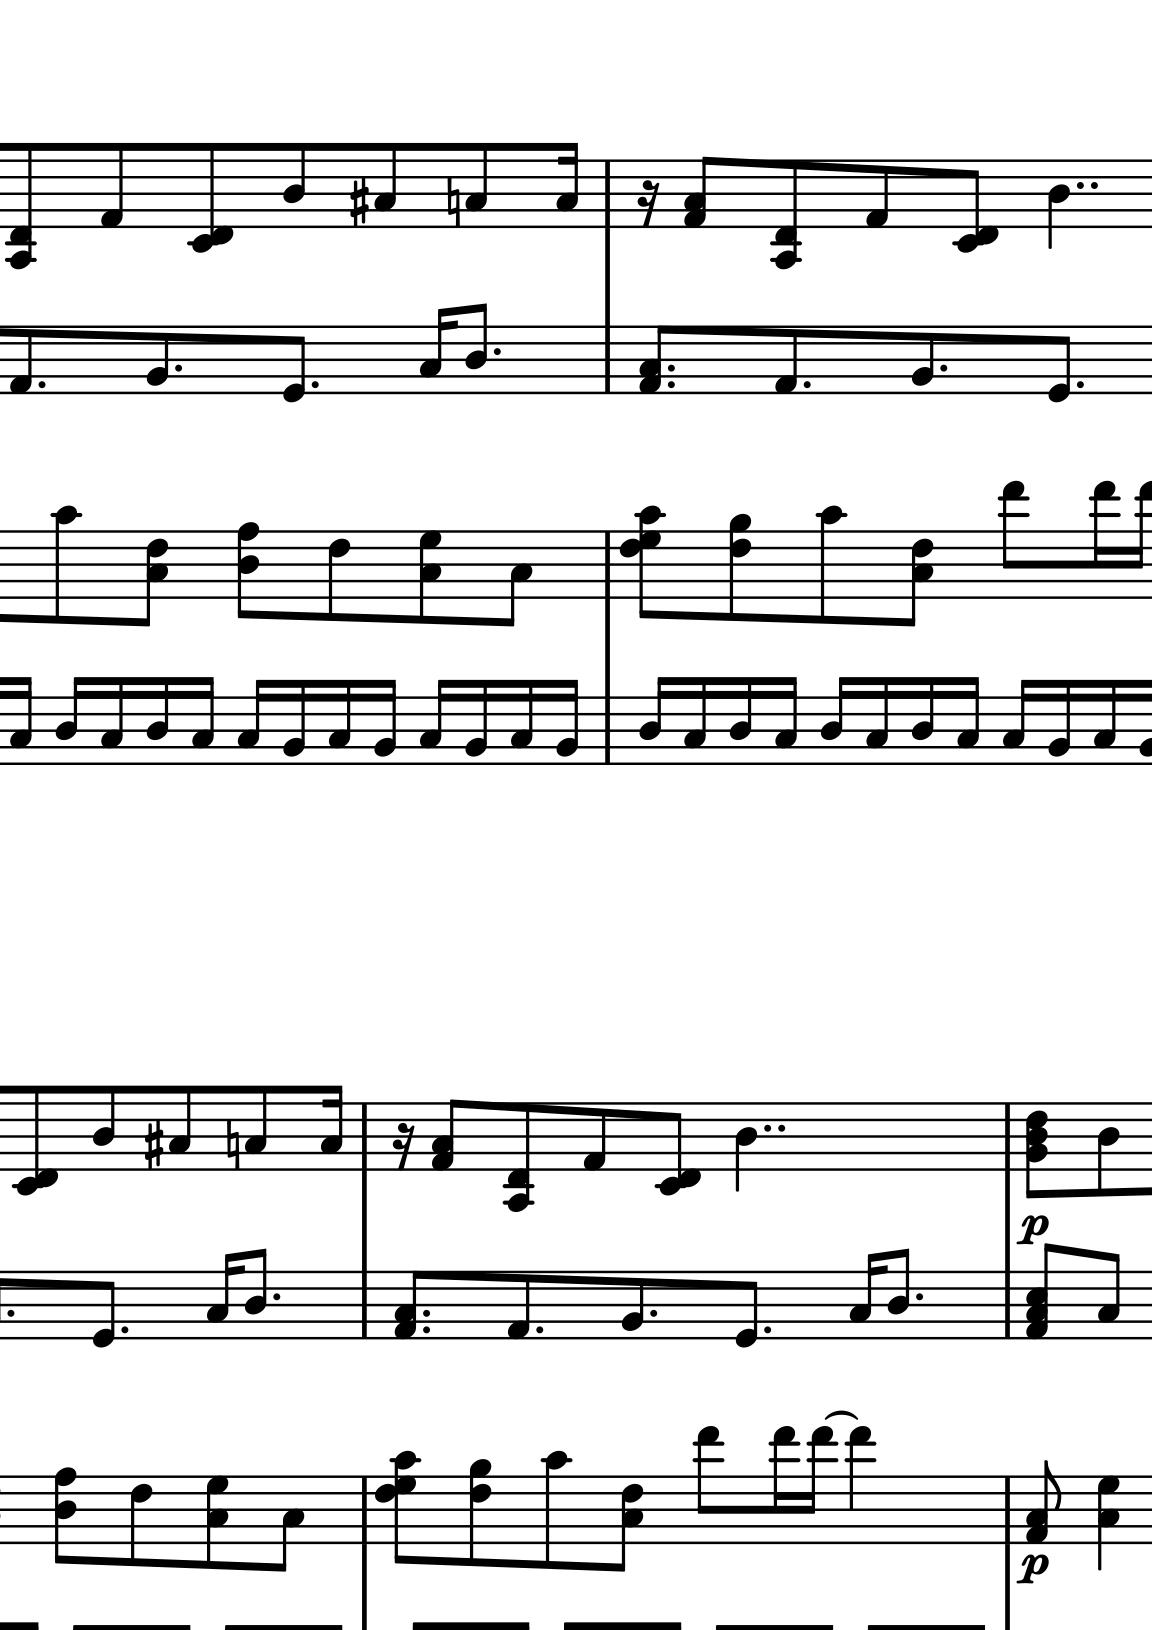16_11: (1130, 479, 1152, 604)
16_13: (1088, 479, 1120, 607), (804, 1422, 835, 1549), (769, 1423, 798, 1550)
16_2: (281, 678, 308, 766), (463, 678, 490, 766), (554, 678, 581, 766), (372, 678, 398, 766), (1047, 678, 1073, 766)
16_3: (416, 305, 459, 396), (847, 1251, 886, 1341), (204, 1250, 243, 1341), (416, 678, 451, 766), (234, 678, 268, 766), (1001, 678, 1034, 766), (98, 675, 126, 766), (682, 675, 709, 766), (864, 675, 891, 766), (325, 678, 353, 766), (1092, 678, 1120, 766), (773, 674, 799, 766), (955, 674, 981, 766), (509, 678, 535, 766), (318, 1083, 344, 1171), (7, 675, 32, 766), (190, 675, 214, 766), (554, 141, 578, 229)
16_4: (54, 674, 86, 766), (637, 674, 670, 766), (819, 674, 852, 766), (145, 675, 172, 766), (729, 675, 756, 766), (911, 675, 938, 766)
4_13: (847, 1423, 875, 1547)
4_4: (1045, 160, 1072, 250), (732, 1102, 758, 1195)
8_-2_-1: (187, 142, 236, 253), (12, 1084, 59, 1196), (951, 157, 997, 255), (655, 1102, 702, 1194)
8_-4_-1: (4, 141, 39, 269), (501, 1102, 537, 1213), (772, 157, 800, 273)
8_0: (90, 1269, 118, 1350), (281, 323, 308, 405), (1046, 323, 1073, 405), (733, 1269, 761, 1350)
8_1: (97, 141, 125, 231), (772, 324, 800, 398), (505, 1270, 532, 1342), (864, 160, 891, 231), (581, 1102, 608, 1173), (9, 324, 34, 398)
8_10: (539, 1451, 571, 1573), (815, 503, 847, 628), (51, 503, 81, 628)
8_13: (997, 479, 1030, 604), (693, 1422, 724, 1550)
8_1_3: (429, 1098, 466, 1173), (683, 155, 717, 229)
8_2: (910, 324, 936, 399), (145, 324, 171, 398), (620, 1270, 646, 1342)
8_3: (497, 528, 535, 631), (271, 1473, 305, 1576), (372, 141, 399, 229), (167, 1085, 194, 1173), (1095, 1251, 1121, 1341), (464, 141, 490, 229), (243, 1085, 269, 1173)
8_3_6: (133, 528, 170, 628), (901, 528, 933, 628), (613, 1474, 645, 1573)
8_3_7: (204, 1474, 229, 1570), (419, 528, 443, 626)
8_4: (90, 1084, 118, 1173), (1096, 1102, 1121, 1200), (281, 141, 308, 229), (888, 1247, 911, 1341), (465, 302, 487, 396), (246, 1247, 268, 1341)
8_4_8: (234, 521, 264, 621), (54, 1467, 77, 1566)
8_6: (325, 528, 352, 626), (128, 1474, 155, 1571)
8_6_9: (468, 1458, 492, 1568), (728, 513, 753, 622)
8_th: (379, 1452, 423, 1565), (1025, 1239, 1058, 1347), (1022, 1102, 1050, 1196)
Double_dot: (761, 1123, 787, 1134), (1075, 178, 1097, 189)
Natural: (223, 1119, 243, 1173), (444, 176, 463, 231)
Rests16: (635, 178, 661, 231), (390, 1122, 416, 1171)
Sharp: (347, 176, 370, 229), (142, 1119, 165, 1171)
Single_barline: (353, 1477, 377, 1545), (596, 531, 620, 597), (596, 160, 618, 227), (353, 1103, 375, 1170), (596, 697, 618, 763), (996, 1477, 1019, 1543), (997, 1103, 1019, 1170), (597, 326, 618, 393), (997, 1271, 1017, 1340), (354, 1272, 374, 1340)
Slur: (823, 1409, 859, 1423)
dot: (170, 359, 187, 378), (936, 359, 953, 379), (531, 1320, 547, 1338), (646, 1304, 661, 1323), (800, 375, 815, 394), (307, 376, 322, 395), (34, 376, 49, 394), (1073, 376, 1088, 394), (761, 1322, 775, 1338), (420, 1305, 434, 1322), (490, 344, 504, 360), (271, 1289, 284, 1305), (118, 1322, 132, 1338), (419, 1322, 433, 1338), (665, 361, 678, 376), (665, 378, 678, 393), (913, 1289, 926, 1304)
p: (1015, 1211, 1049, 1247), (1016, 1551, 1049, 1589)
